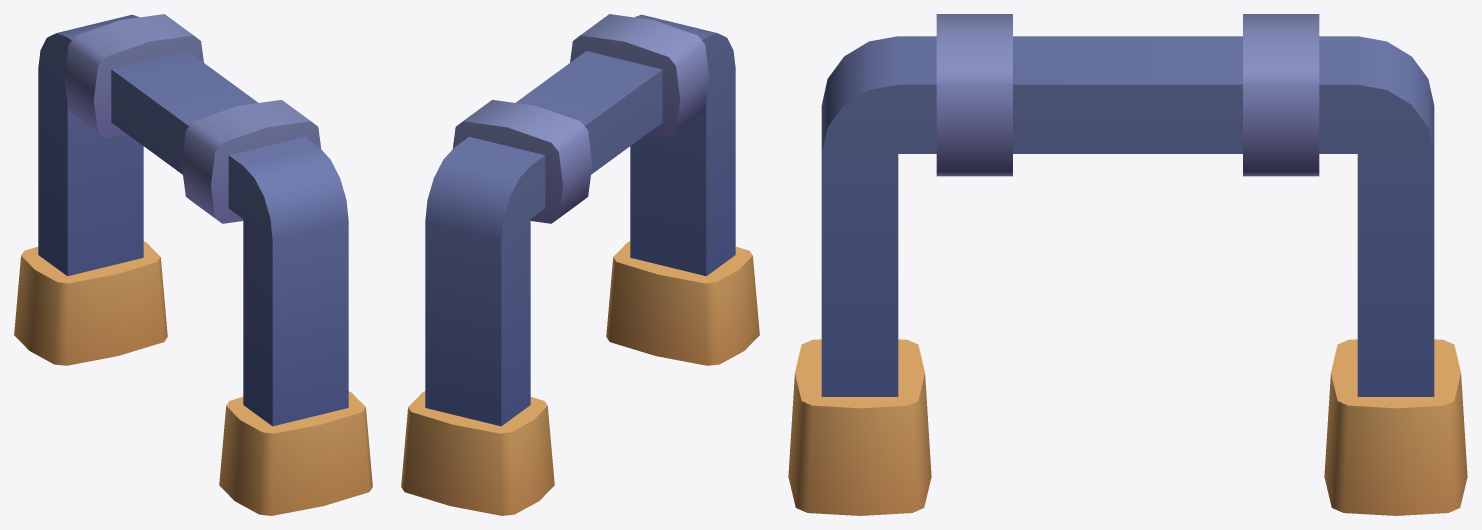
The model's file is kenney-factory-scanner-high.glb.
The picture shows the model from 3 angles, left to right: view 1: azimuth 30°, elevation 25°; view 2: azimuth 150°, elevation 25°; view 3: azimuth 270°, elevation 25°; orthographic projection. The views are drawn at different scales.
Visible parts, largest first — view 1: scanner-high; view 2: scanner-high; view 3: scanner-high.
Boxes of the visible parts, x1,y1,x2,y2 form: scanner-high: (14, 14, 372, 515); scanner-high: (401, 14, 759, 515); scanner-high: (788, 14, 1467, 515).
Size of the model in its own units: 0.726 by 1.9 by 2.66.
Materials: 1 (1 with a texture image).
